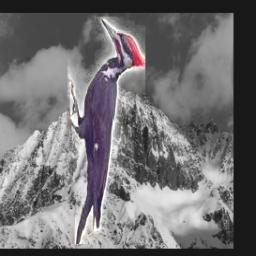Woodpecker: (68, 17, 146, 245)
